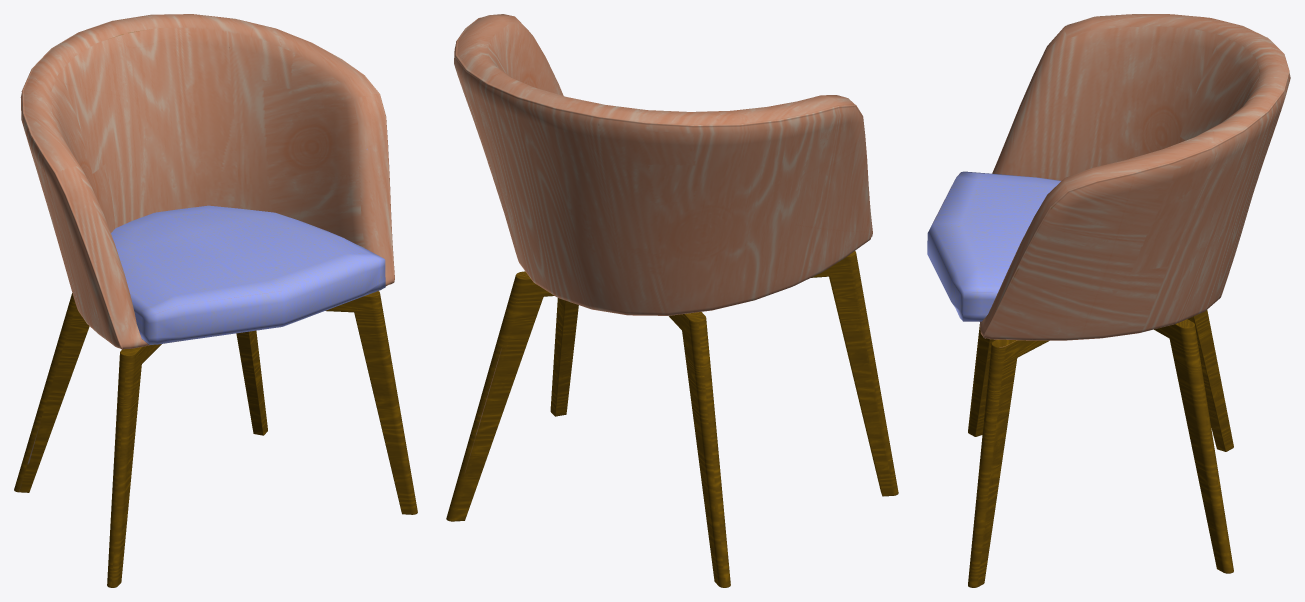
The picture shows the model from 3 angles, left to right: view 1: azimuth 30°, elevation 25°; view 2: azimuth 150°, elevation 25°; view 3: azimuth 270°, elevation 25°; orthographic projection. The views are drawn at different scales.
Parts seen in each view (by area): view 1: Plane010.010_Mesh.019; view 2: Plane010.010_Mesh.019; view 3: Plane010.010_Mesh.019.
Part boxes in pixels (bbox=[...]): Plane010.010_Mesh.019: bbox=[14, 14, 417, 587]; Plane010.010_Mesh.019: bbox=[446, 14, 898, 587]; Plane010.010_Mesh.019: bbox=[927, 14, 1290, 587].
Size of the model in its own units: 3.96 by 4.86 by 3.63.
1 material, 1 textured.
